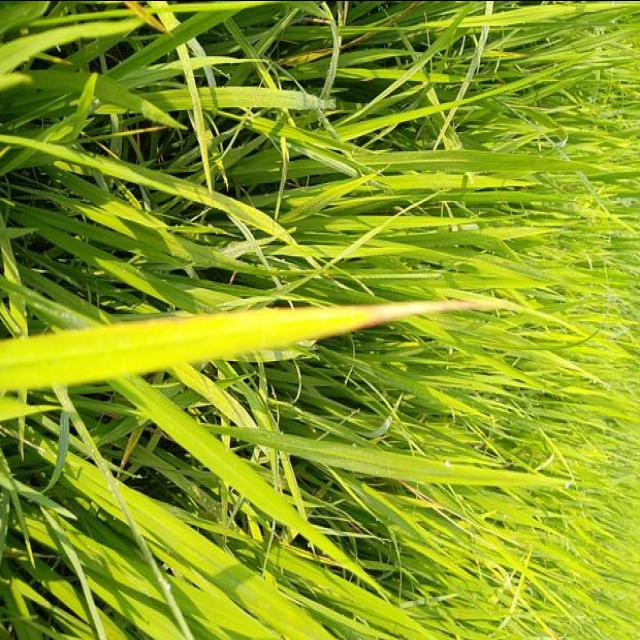Leaf Blight: (0, 292, 499, 392)
